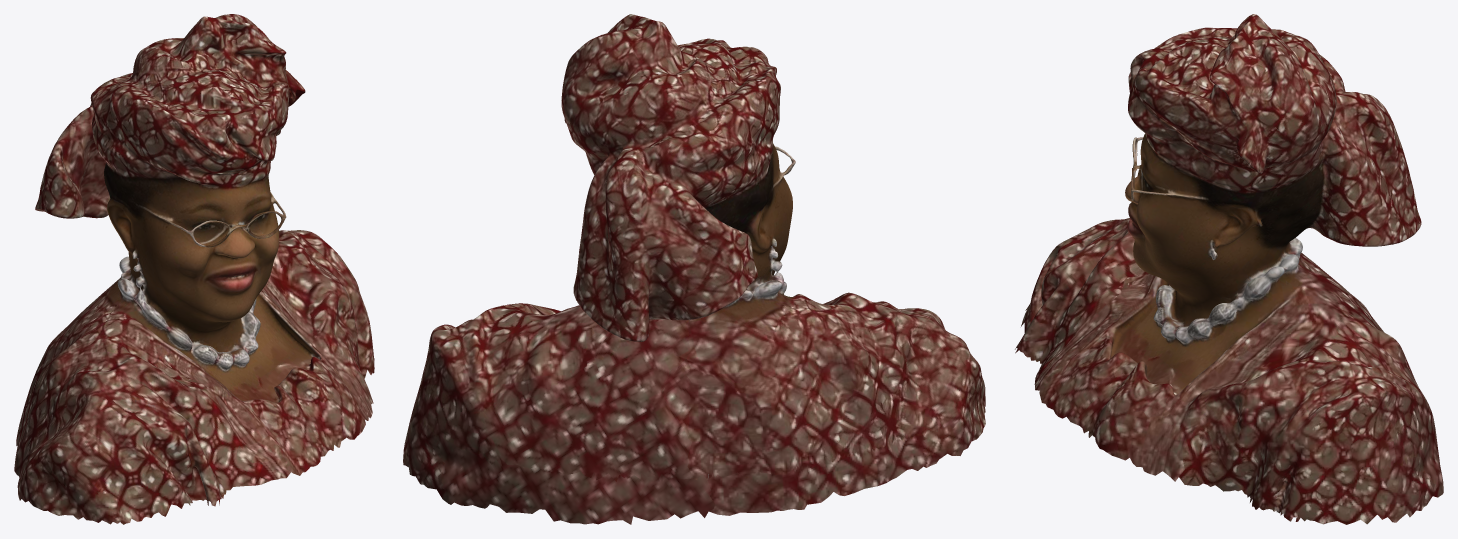
File: ngozi-user-plain.glb
The picture shows the model from 3 angles, left to right: view 1: azimuth 30°, elevation 25°; view 2: azimuth 150°, elevation 25°; view 3: azimuth 270°, elevation 25°; orthographic projection. The views are drawn at different scales.
Parts seen in each view (by area): view 1: Portrait; view 2: Portrait; view 3: Portrait.
Boxes of the visible parts, <box> form: Portrait: <box>14,14,374,524</box>; Portrait: <box>403,14,985,524</box>; Portrait: <box>1015,14,1443,524</box>.
Bounding box in the file's own units: 1.19 × 1.12 × 1.02.
1 material, 1 textured.
